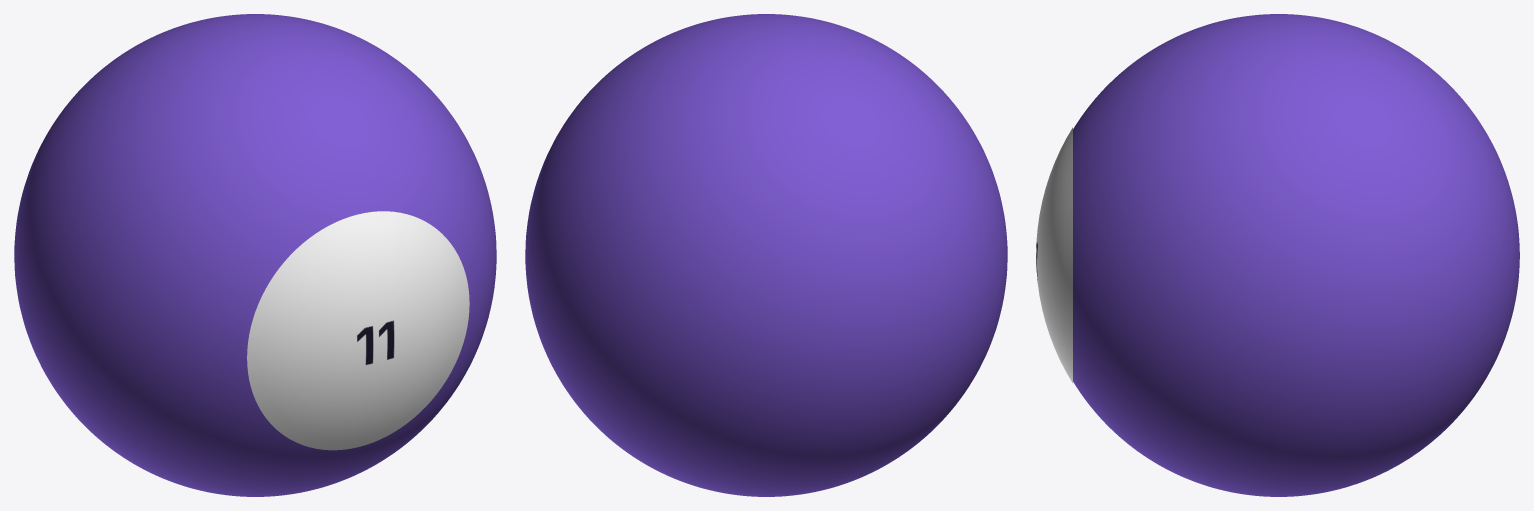
File: ball-11.glb
3 renders of one model, left to right at view 1: azimuth 30°, elevation 25°; view 2: azimuth 150°, elevation 25°; view 3: azimuth 270°, elevation 25°, orthographic.
Visible parts, largest first — view 1: Ball_11_Shell, Ball_11_Number_Disc; view 2: Ball_11_Shell; view 3: Ball_11_Shell, Ball_11_Number_Disc.
Part boxes in pixels (x1=…): Ball_11_Shell: x1=14, y1=14, x2=496, y2=496; Ball_11_Number_Disc: x1=247, y1=211, x2=469, y2=450; Ball_11_Shell: x1=525, y1=14, x2=1007, y2=496; Ball_11_Shell: x1=1073, y1=14, x2=1519, y2=496; Ball_11_Number_Disc: x1=1036, y1=127, x2=1072, y2=383.
Size of the model in its own units: 1.84 by 1.84 by 1.84.
Materials: 2 (1 with a texture image).
